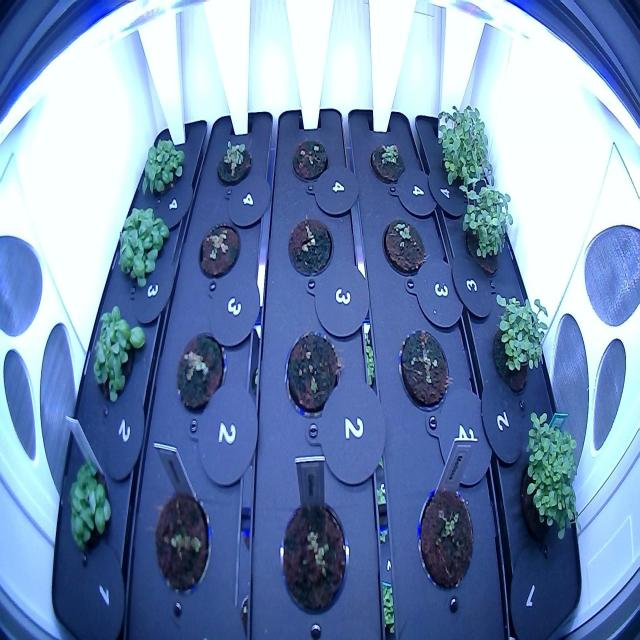germination: (274, 490, 353, 620), (413, 476, 476, 598), (152, 488, 216, 598), (280, 324, 344, 431), (173, 324, 229, 429), (395, 319, 453, 419), (286, 212, 337, 284), (378, 213, 428, 278), (194, 217, 242, 282), (366, 132, 409, 188), (288, 131, 329, 187), (214, 136, 254, 189)
